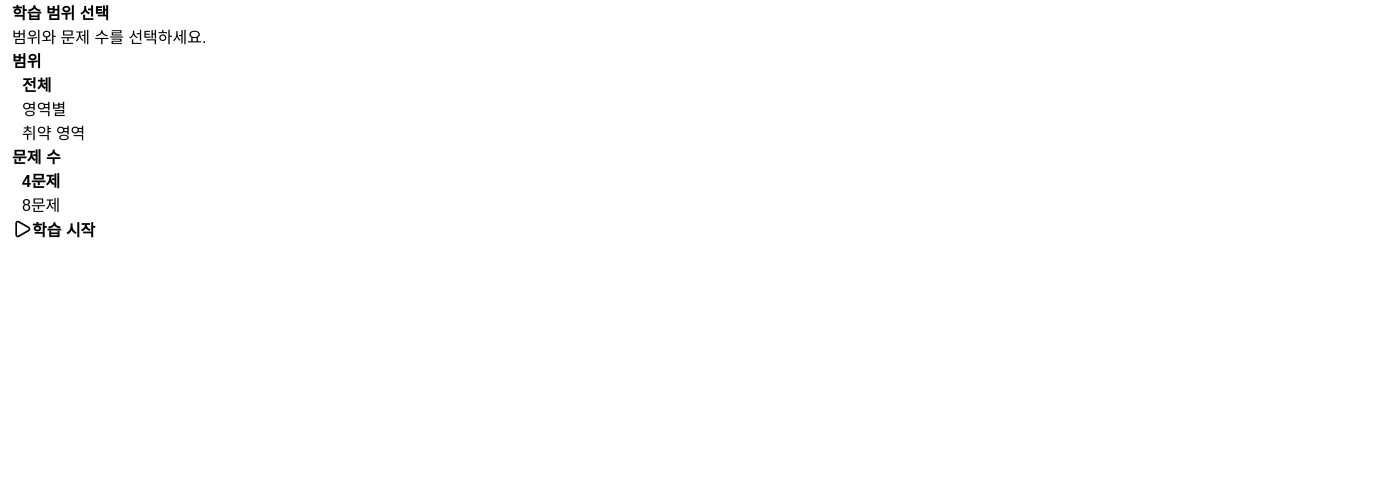
학습 화면 버튼 위계 › 풀이 화면: 첫 문항 이전 disabled·마지막은 다음 대신 하단 제출 1개(#232)
Step 1. Click the button "학습 시작" → (54, 229), box [12, 216, 95, 242]
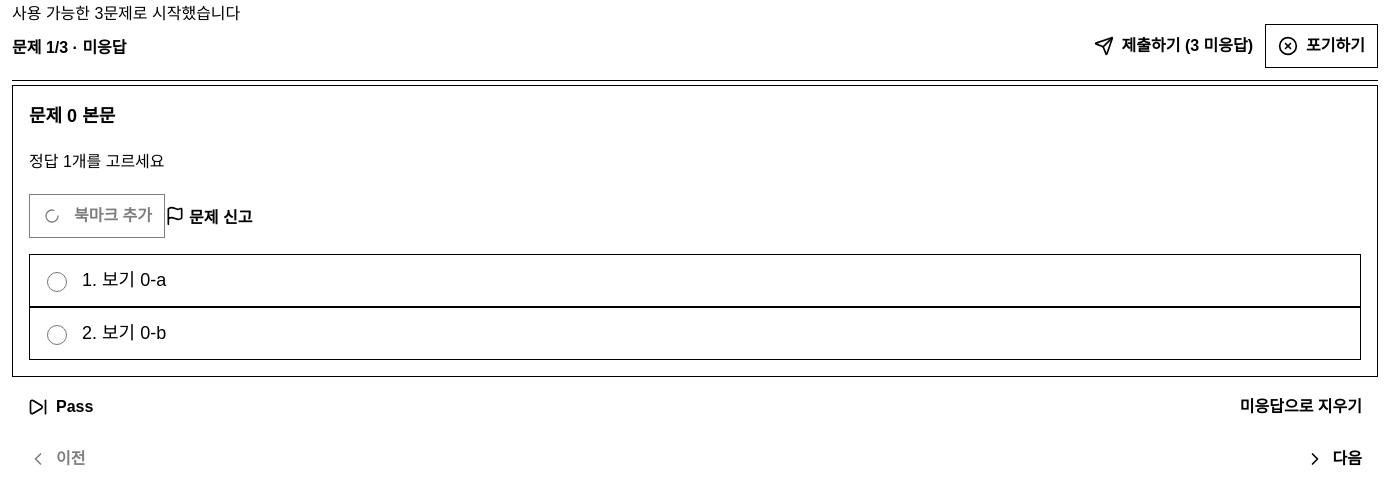
Result: the text "문제 1/3 · 미응답" is shown at [12, 34, 127, 58]
Result: the button "이전" is disabled at [12, 437, 102, 481]
Result: the button "다음" is enabled
Step 2. Click the button "다음" → (1333, 459), box [1288, 437, 1378, 481]
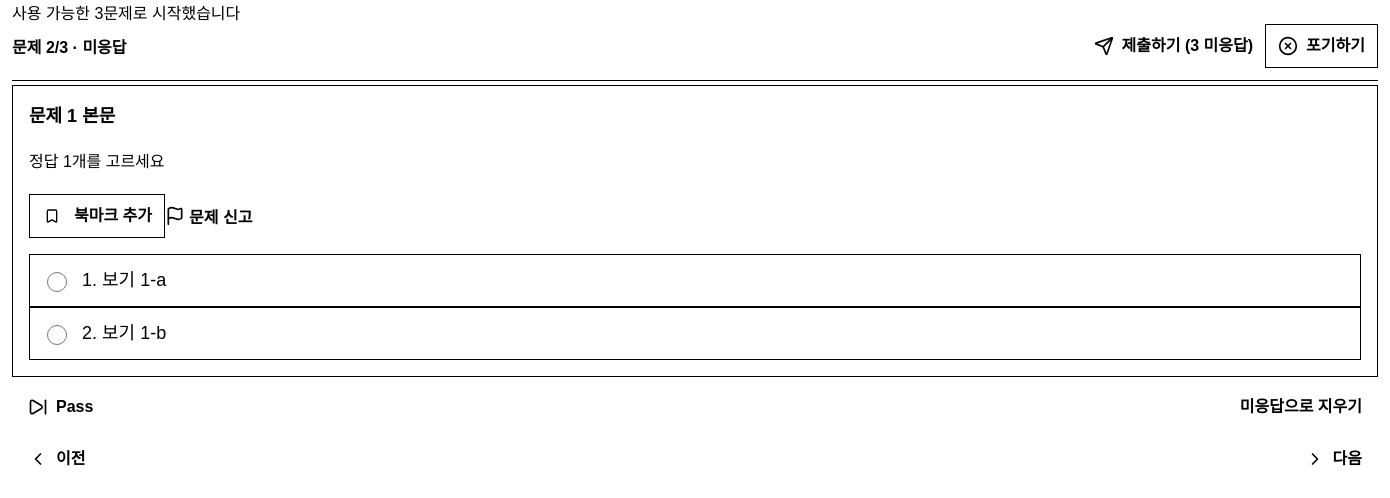
Step 3. Click the button "다음" → (1333, 459), box [1288, 437, 1378, 481]
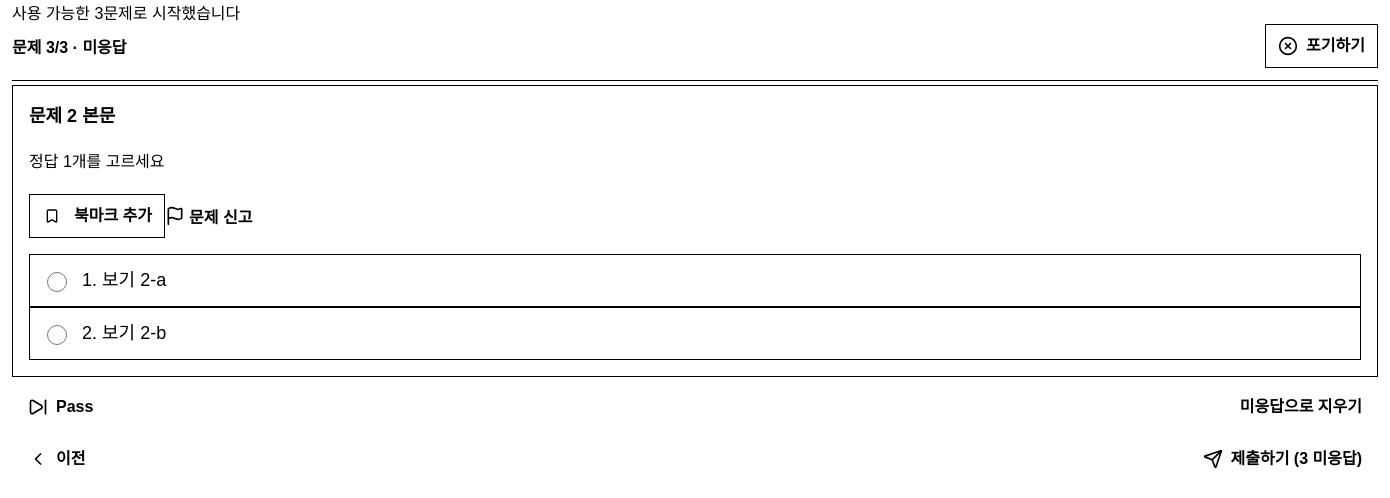
Result: the text "문제 3/3 · 미응답" is shown at [12, 34, 127, 58]
Result: the button "다음" is gone
Result: the number of buttons "제출하기 (3 미응답)" is 1 at [1186, 437, 1378, 481]
